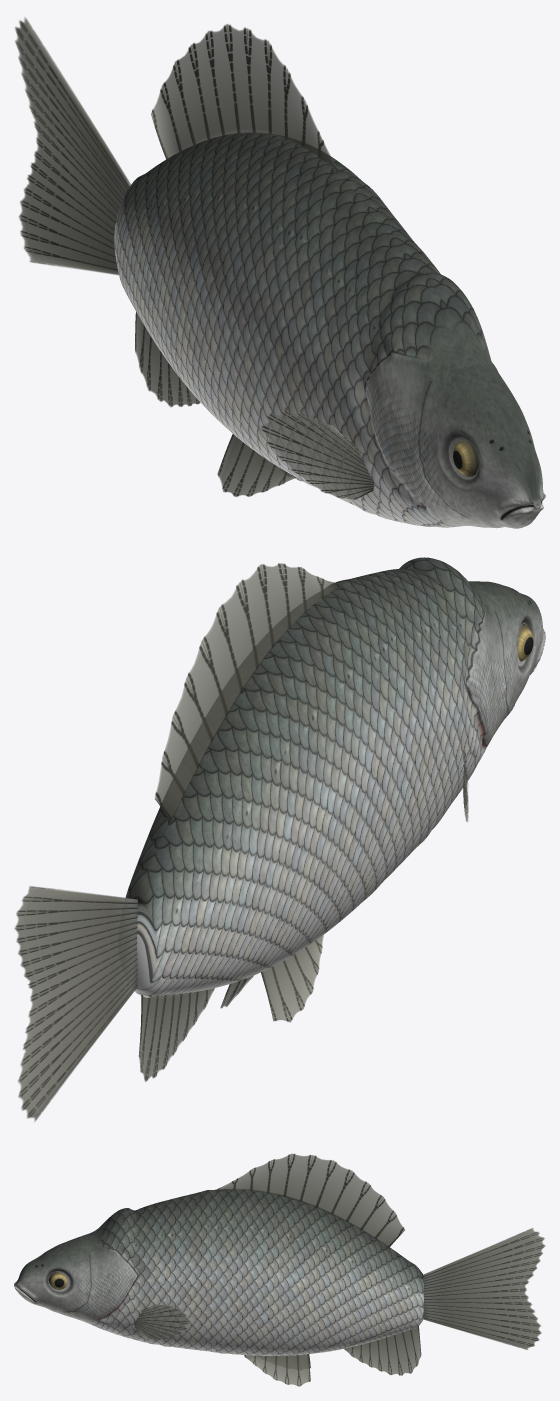
Rendered from karas_srebrzysty.glb.
3 renders of one model, top to bottom at view 1: azimuth 30°, elevation 25°; view 2: azimuth 150°, elevation 25°; view 3: azimuth 270°, elevation 25°, orthographic. The views are drawn at different scales.
Parts seen in each view (by area): view 1: Body, FinCaudal, FinDorsal1, FinPectoral, FinPelvic, FinAnal, EyeLeft; view 2: Body, FinCaudal, FinDorsal1, FinAnal, FinPelvic; view 3: Body, FinCaudal, FinDorsal1, FinAnal, FinPectoral, FinPelvic.
Boxes of the visible parts, x1=… form: Body: x1=114, y1=132, x2=545, y2=528; FinCaudal: x1=15, y1=17, x2=131, y2=275; FinDorsal1: x1=151, y1=24, x2=338, y2=171; FinPectoral: x1=260, y1=411, x2=374, y2=499; FinPelvic: x1=217, y1=434, x2=301, y2=496; FinAnal: x1=135, y1=312, x2=200, y2=407; EyeLeft: x1=453, y1=440, x2=479, y2=476; Body: x1=125, y1=557, x2=545, y2=997; FinCaudal: x1=14, y1=886, x2=138, y2=1121; FinDorsal1: x1=154, y1=563, x2=339, y2=821; FinAnal: x1=138, y1=988, x2=214, y2=1081; FinPelvic: x1=220, y1=935, x2=323, y2=1022; Body: x1=14, y1=1189, x2=424, y2=1355; FinCaudal: x1=423, y1=1228, x2=545, y2=1349; FinDorsal1: x1=216, y1=1153, x2=404, y2=1247; FinAnal: x1=344, y1=1326, x2=421, y2=1375; FinPectoral: x1=134, y1=1304, x2=190, y2=1340; FinPelvic: x1=244, y1=1354, x2=310, y2=1386.
Bounding box in the file's own units: 0.2288 × 0.471 × 1.
Materials: 8 (7 with a texture image).
